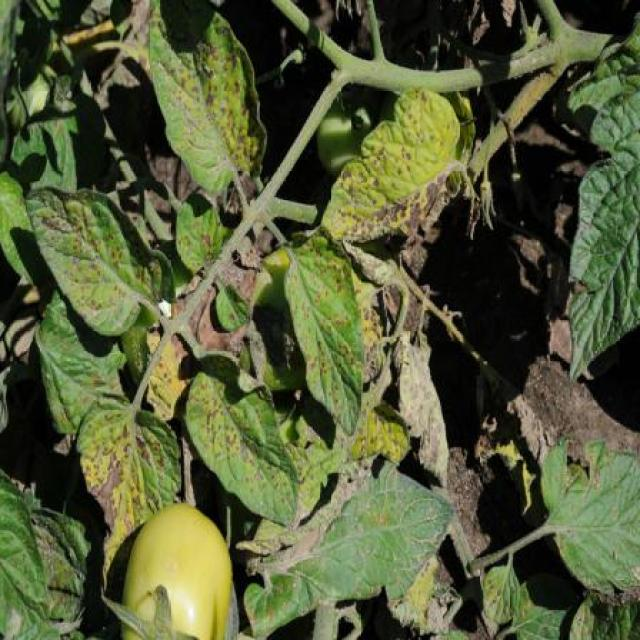Septoria: (241, 458, 454, 639), (147, 0, 269, 196), (322, 82, 464, 247), (564, 83, 640, 388), (75, 388, 181, 593), (186, 344, 300, 530), (21, 183, 150, 336), (282, 225, 367, 438), (540, 433, 640, 597), (37, 283, 127, 437), (173, 193, 226, 271), (483, 560, 523, 627)
